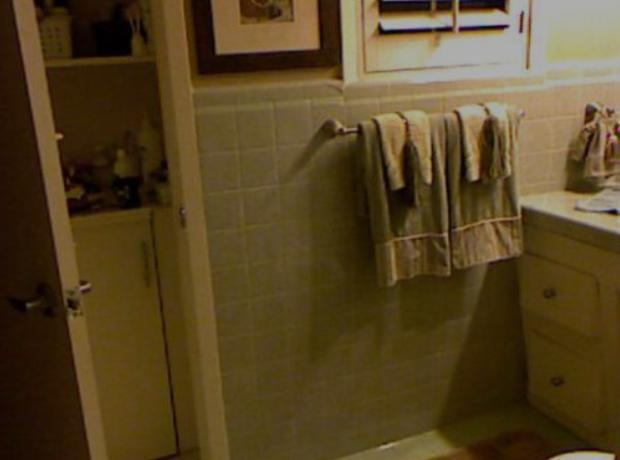Armario: (0, 0, 221, 460)
Sanitario: (534, 392, 620, 460)
